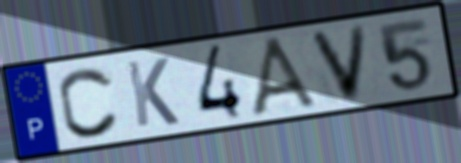4: (192, 41, 248, 123)
5: (374, 15, 438, 94)
A: (247, 33, 325, 118)
C: (56, 65, 122, 140)
K: (123, 55, 182, 130)
V: (305, 22, 371, 105)
